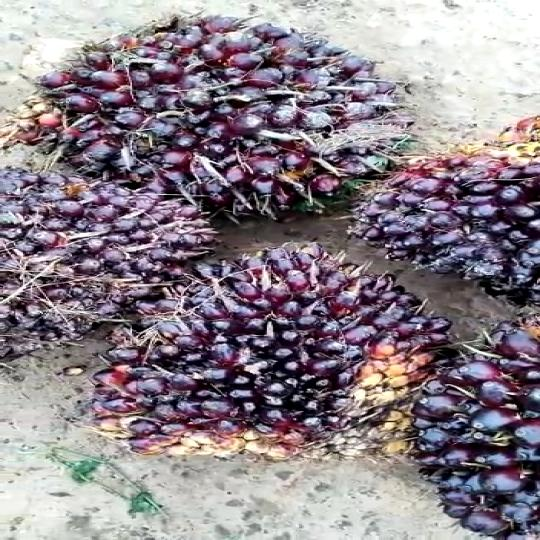kurang masak: (26, 16, 464, 219), (95, 235, 455, 476), (0, 159, 239, 386)
